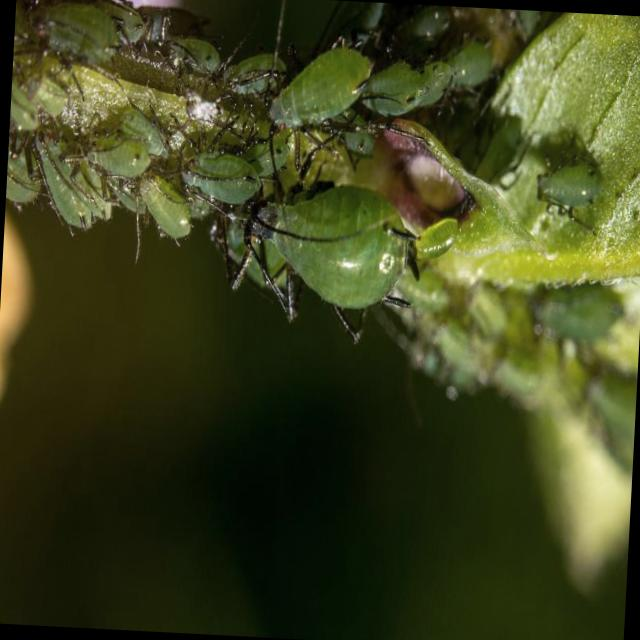Aphids: (213, 150, 468, 334), (258, 26, 382, 160), (520, 140, 622, 235), (156, 136, 266, 210), (32, 132, 102, 242), (28, 0, 132, 70), (126, 168, 198, 250), (352, 56, 426, 121), (86, 108, 158, 174), (160, 21, 228, 74)
